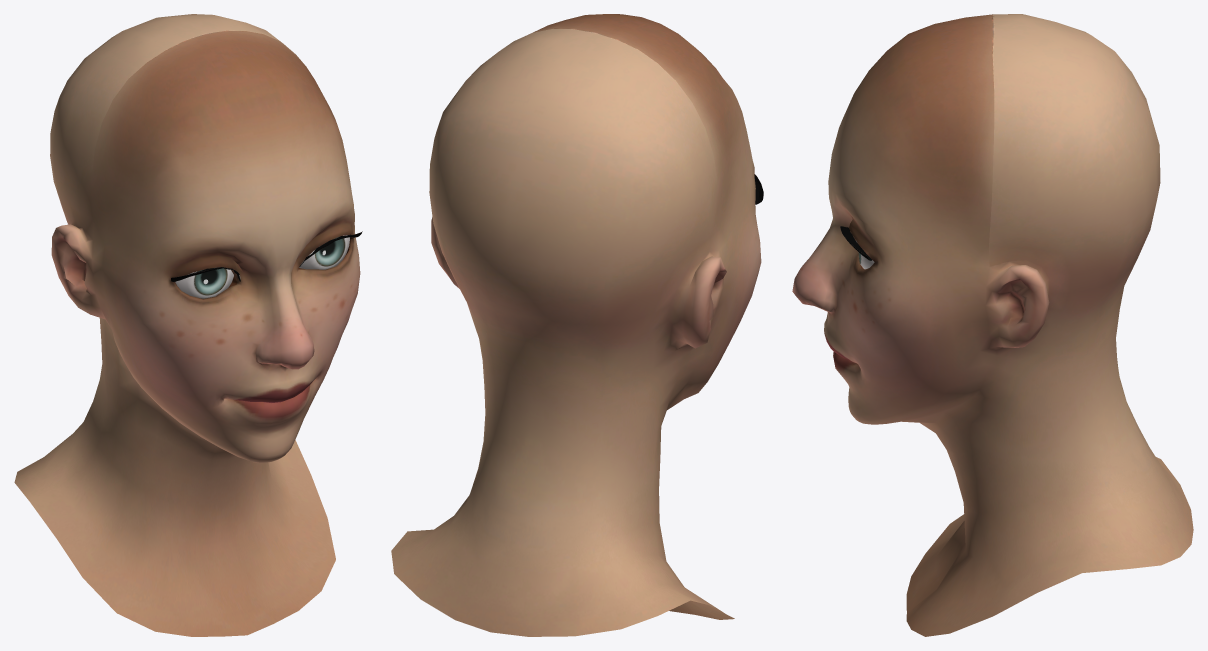
File: jogador_cabeca.obj
The picture shows the model from 3 angles, left to right: view 1: azimuth 30°, elevation 25°; view 2: azimuth 150°, elevation 25°; view 3: azimuth 270°, elevation 25°; orthographic projection. The views are drawn at different scales.
Visible parts, largest first — view 1: 0000_F_MED_CAU_Armstrong_01; view 2: 0000_F_MED_CAU_Armstrong_01; view 3: 0000_F_MED_CAU_Armstrong_01.
Boxes of the visible parts, x1,y1,x2,y2 form: 0000_F_MED_CAU_Armstrong_01: (14, 14, 362, 636); 0000_F_MED_CAU_Armstrong_01: (391, 14, 763, 636); 0000_F_MED_CAU_Armstrong_01: (792, 14, 1193, 636).
Bounding box in the file's own units: 0.1423 × 0.2931 × 0.1824.
Materials: 1 (1 with a texture image).
